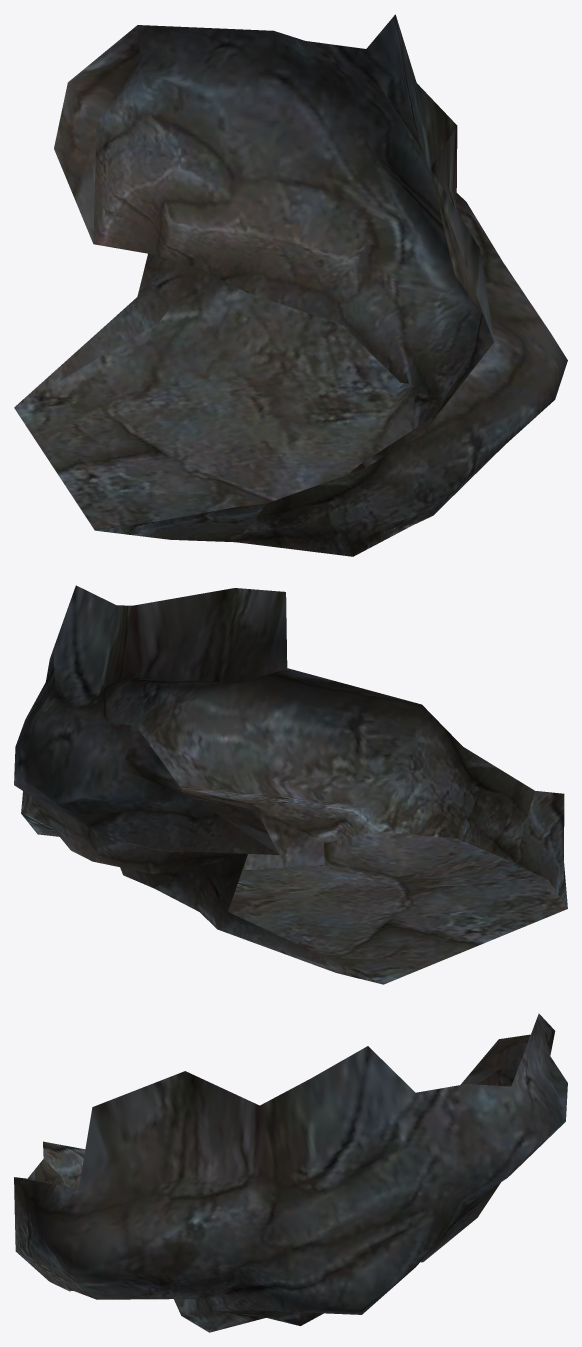
Rendered from S_Rock_Yellow036_1.FBX.
3 views of the same model, one above another, from view 1: azimuth 30°, elevation 25°; view 2: azimuth 150°, elevation 25°; view 3: azimuth 270°, elevation 25° (orthographic). The views are drawn at different scales.
Parts seen in each view (by area): view 1: S_Rock_Yellow036_1; view 2: S_Rock_Yellow036_1; view 3: S_Rock_Yellow036_1.
Part boxes in pixels (box(x1,y1,x2,y2)): S_Rock_Yellow036_1: box(14, 14, 567, 556); S_Rock_Yellow036_1: box(14, 585, 567, 984); S_Rock_Yellow036_1: box(14, 1013, 567, 1332).
Size of the model in its own units: 180 by 207 by 131.
